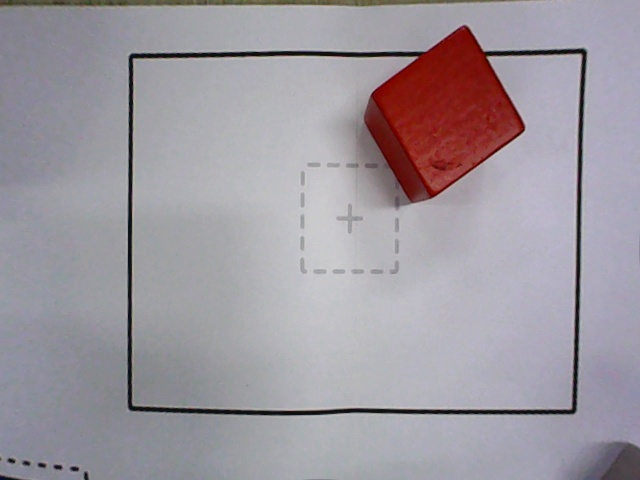upside of big cube: (371, 25, 526, 197)
